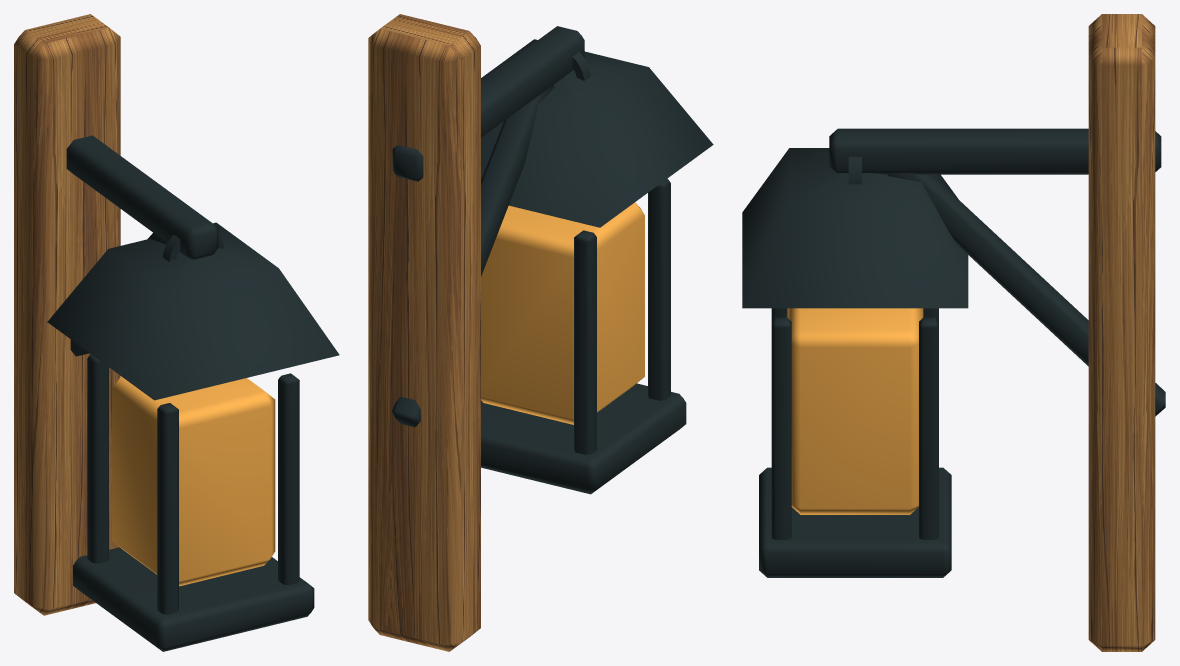
File: 08_Farol_Pared.obj
The picture shows the model from 3 angles, left to right: view 1: azimuth 30°, elevation 25°; view 2: azimuth 150°, elevation 25°; view 3: azimuth 270°, elevation 25°; orthographic projection. The views are drawn at different scales.
Visible parts, largest first — view 1: 08_Farol_Pared_Iron, 08_Farol_Pared_Wood, 08_Farol_Pared_Glow; view 2: 08_Farol_Pared_Wood, 08_Farol_Pared_Iron, 08_Farol_Pared_Glow; view 3: 08_Farol_Pared_Iron, 08_Farol_Pared_Wood, 08_Farol_Pared_Glow.
Part boxes in pixels (x1=…): 08_Farol_Pared_Iron: x1=47, y1=135, x2=339, y2=651; 08_Farol_Pared_Wood: x1=14, y1=14, x2=120, y2=615; 08_Farol_Pared_Glow: x1=112, y1=376, x2=275, y2=586; 08_Farol_Pared_Wood: x1=368, y1=14, x2=480, y2=651; 08_Farol_Pared_Iron: x1=392, y1=26, x2=713, y2=494; 08_Farol_Pared_Glow: x1=481, y1=202, x2=644, y2=424; 08_Farol_Pared_Iron: x1=742, y1=128, x2=1165, y2=577; 08_Farol_Pared_Wood: x1=1088, y1=14, x2=1155, y2=651; 08_Farol_Pared_Glow: x1=787, y1=308, x2=923, y2=514.
Bounding box in the file's own units: 0.3394 × 1 × 0.6355.
3 materials, 1 textured.
